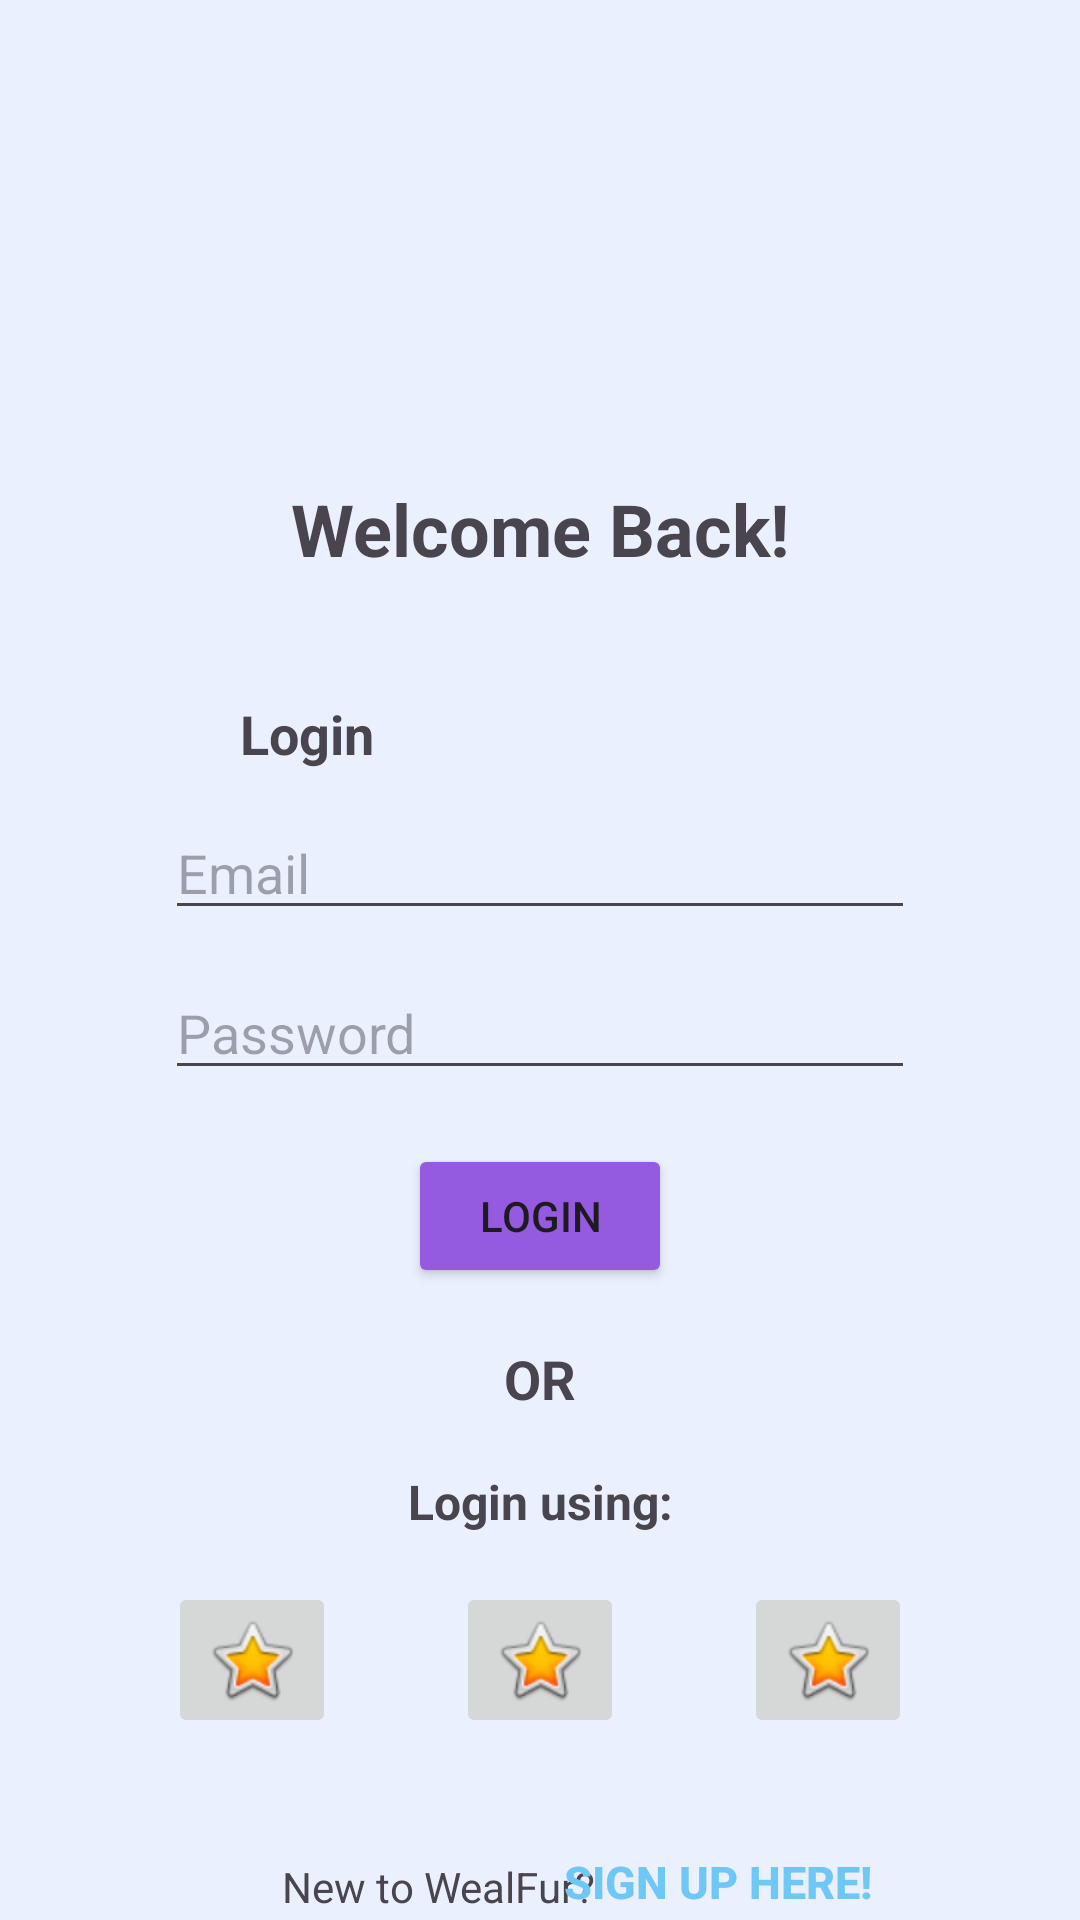

Screen size 1080x1920. Icon name, then its center in pixels as (x,y):
star on: (252,1660), (540,1660), (828,1660)
